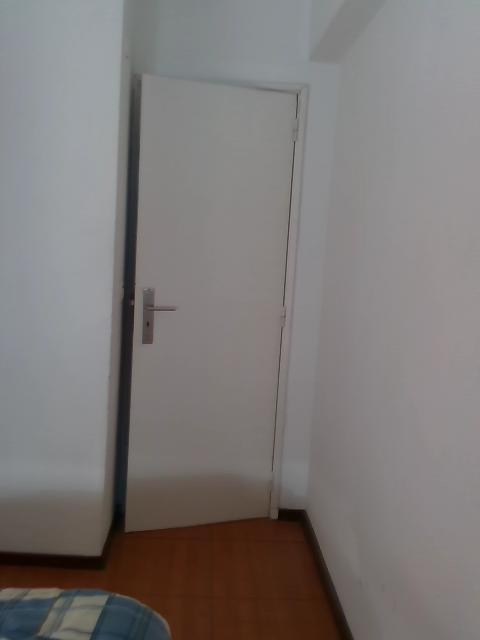door: (125, 73, 300, 534)
